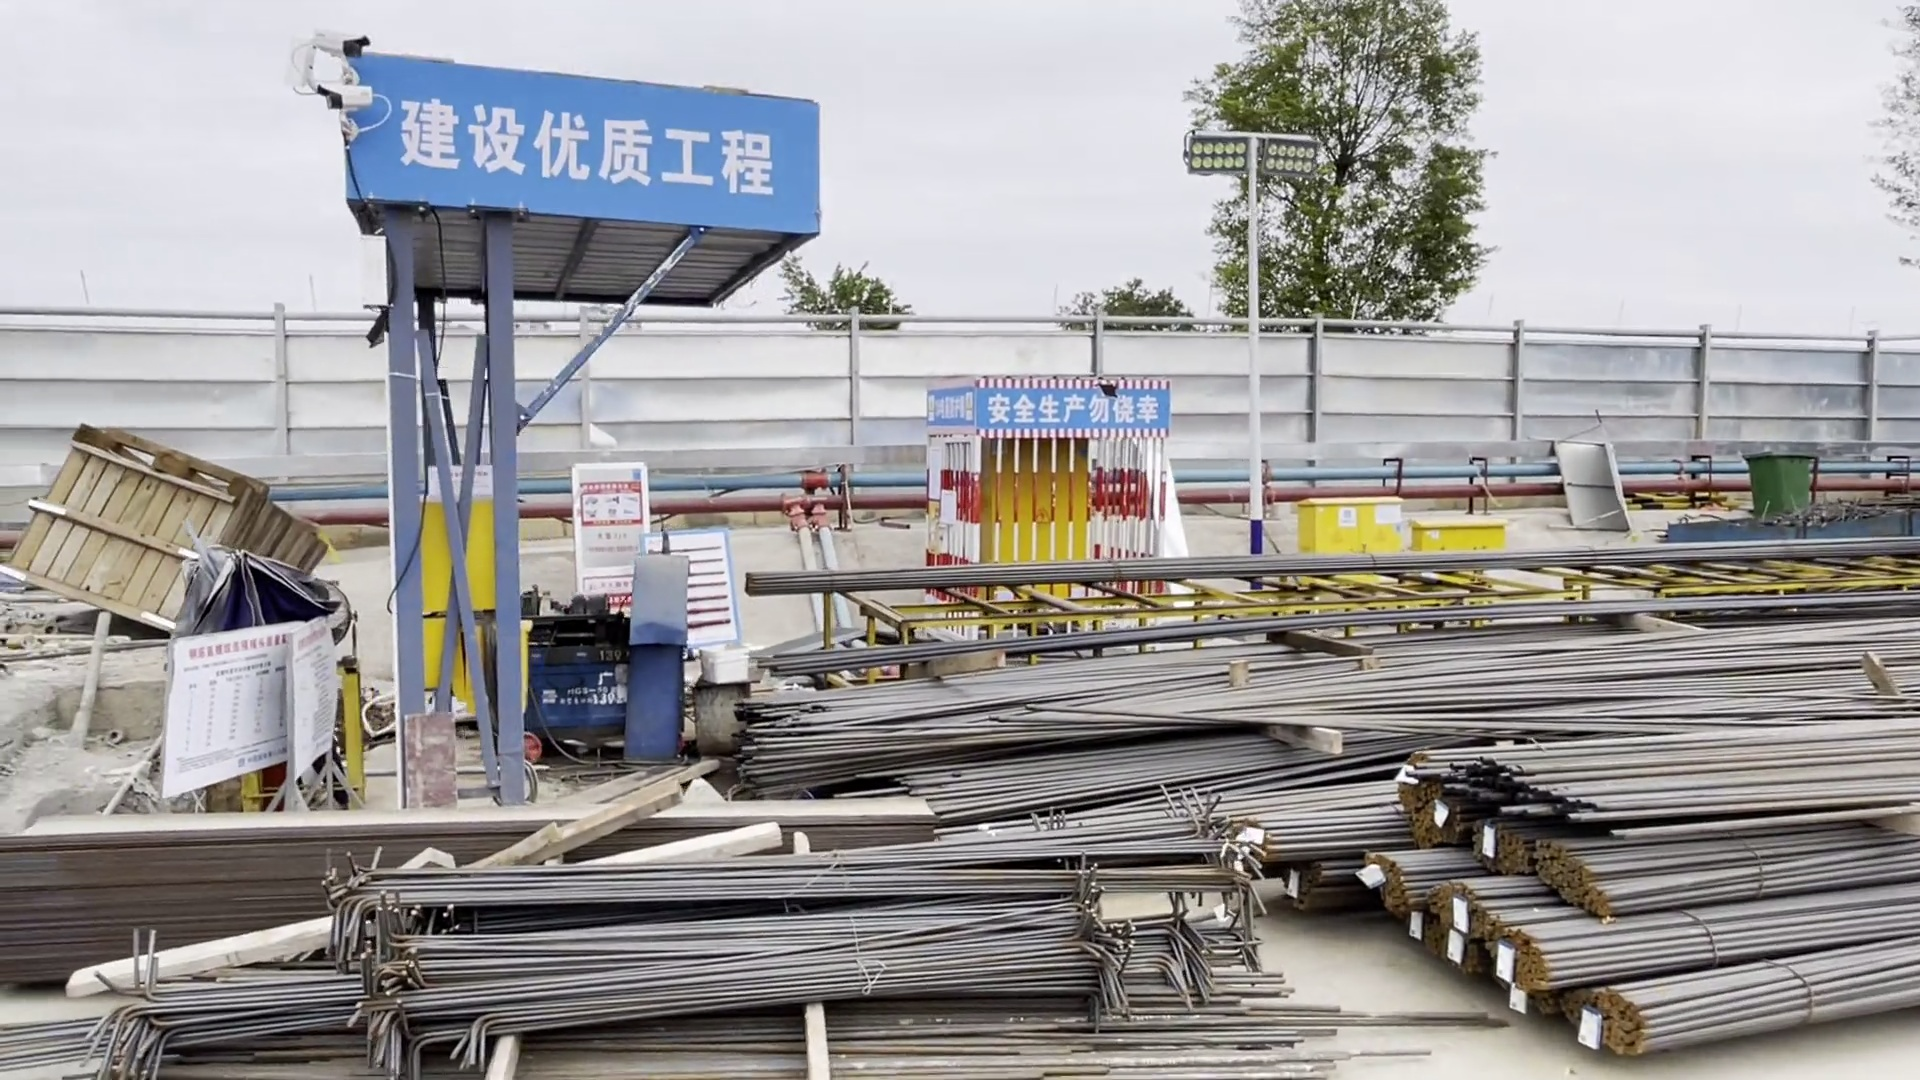ebox: (1288, 491, 1406, 564), (1411, 509, 1516, 564)
rebar: (746, 558, 1917, 820), (80, 845, 1356, 1080), (1377, 723, 1920, 1062)
slogan: (389, 83, 810, 218), (922, 385, 1159, 438)
